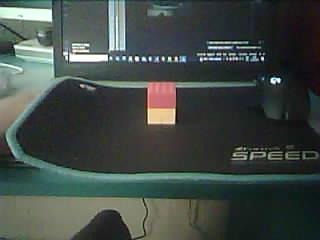lego: (147, 81, 176, 125)
